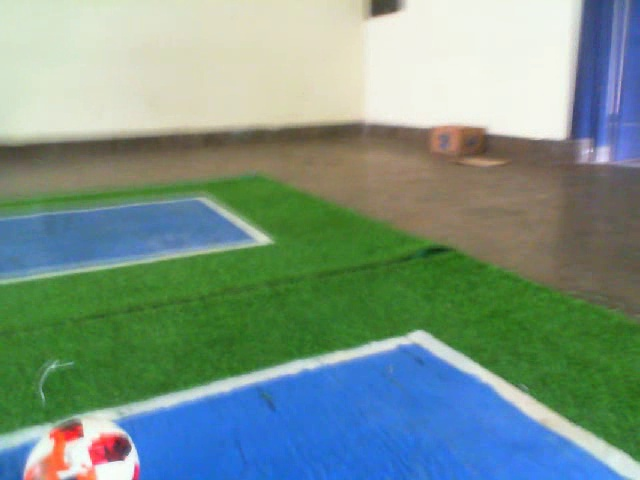ball: (19, 412, 144, 480)
